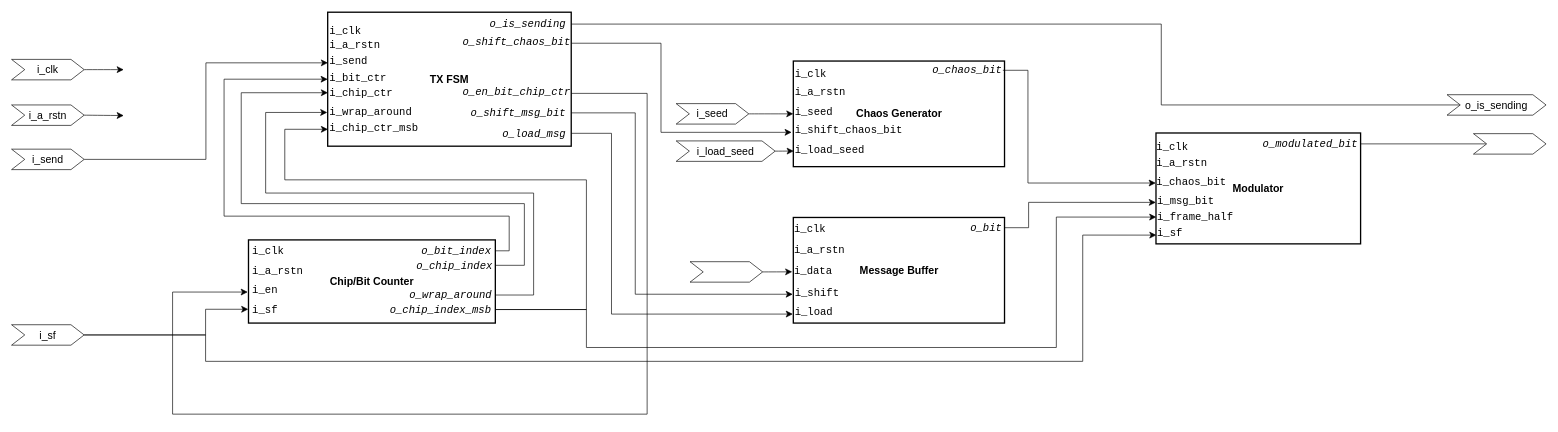
This 1558x432 diagram has some shape labels left out. Each missing label, with the centre of its shape:
"i_msg" goes at point (726, 271).
"o_tx" goes at point (1509, 143).
